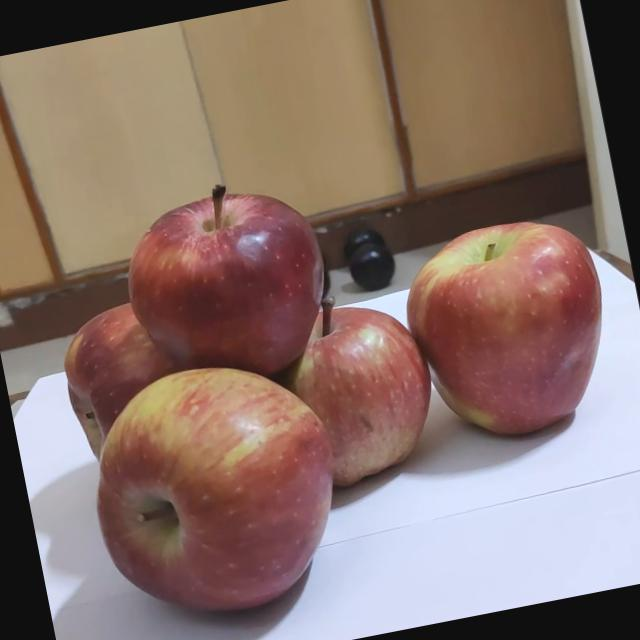apple: (100, 348, 414, 640), (376, 203, 640, 477), (37, 291, 282, 538), (131, 174, 371, 426), (262, 284, 468, 526)
